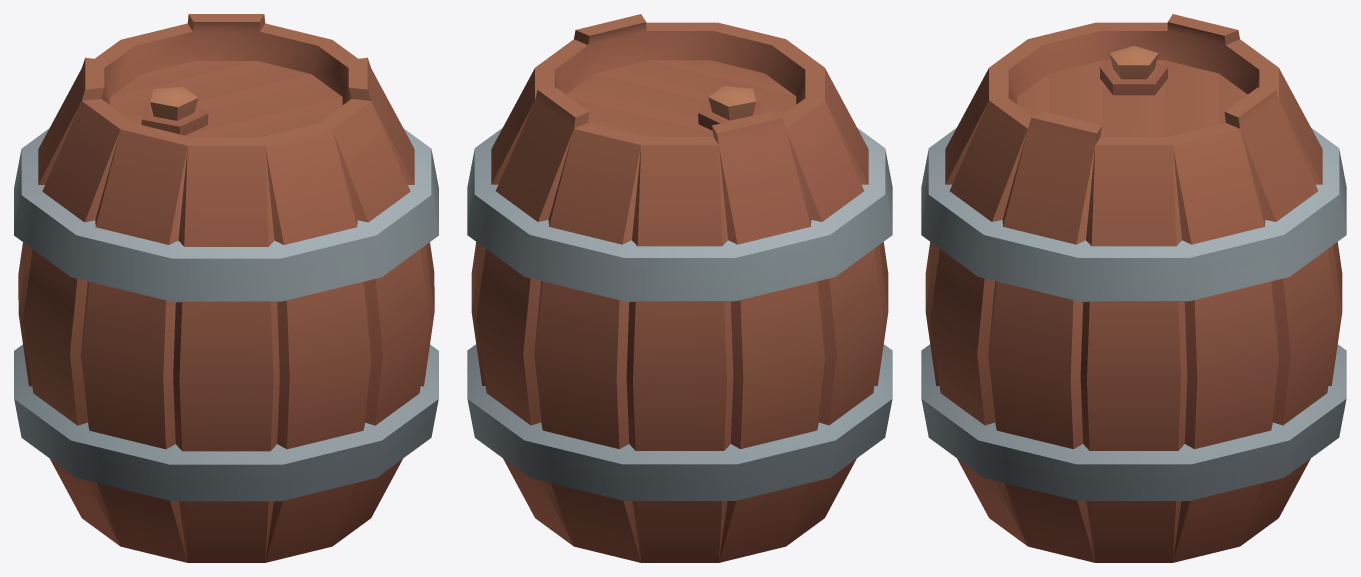
Rendered from barrel_large.glb.
3 views of the same model, side by side, from view 1: azimuth 30°, elevation 25°; view 2: azimuth 150°, elevation 25°; view 3: azimuth 270°, elevation 25° (orthographic).
Visible parts, largest first — view 1: barrel_large; view 2: barrel_large; view 3: barrel_large.
Part boxes in pixels (x1,y1,x2,y2): barrel_large: (14,14,438,562); barrel_large: (467,14,892,562); barrel_large: (921,14,1346,562).
Size of the model in its own units: 1.8 by 2 by 1.8.
1 material, 1 textured.
